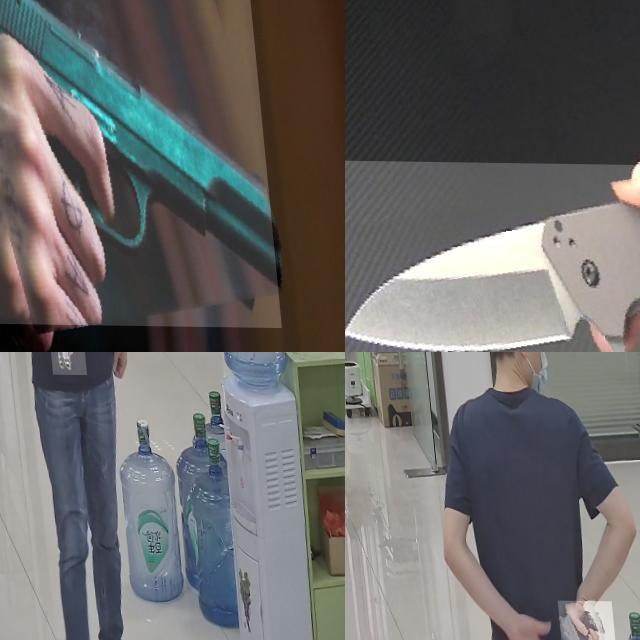-: (345, 159, 640, 352)
gun-knife-thesis - v11 Yolov5 augmented: (0, 0, 272, 326), (550, 599, 614, 640), (40, 352, 80, 396)
